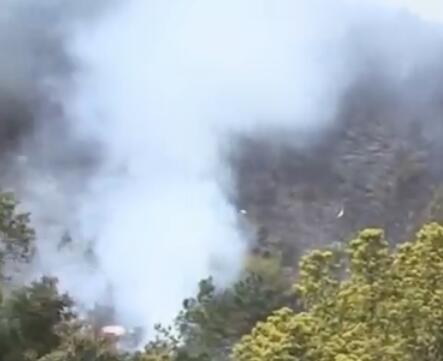yanwu: (3, 1, 441, 354)
